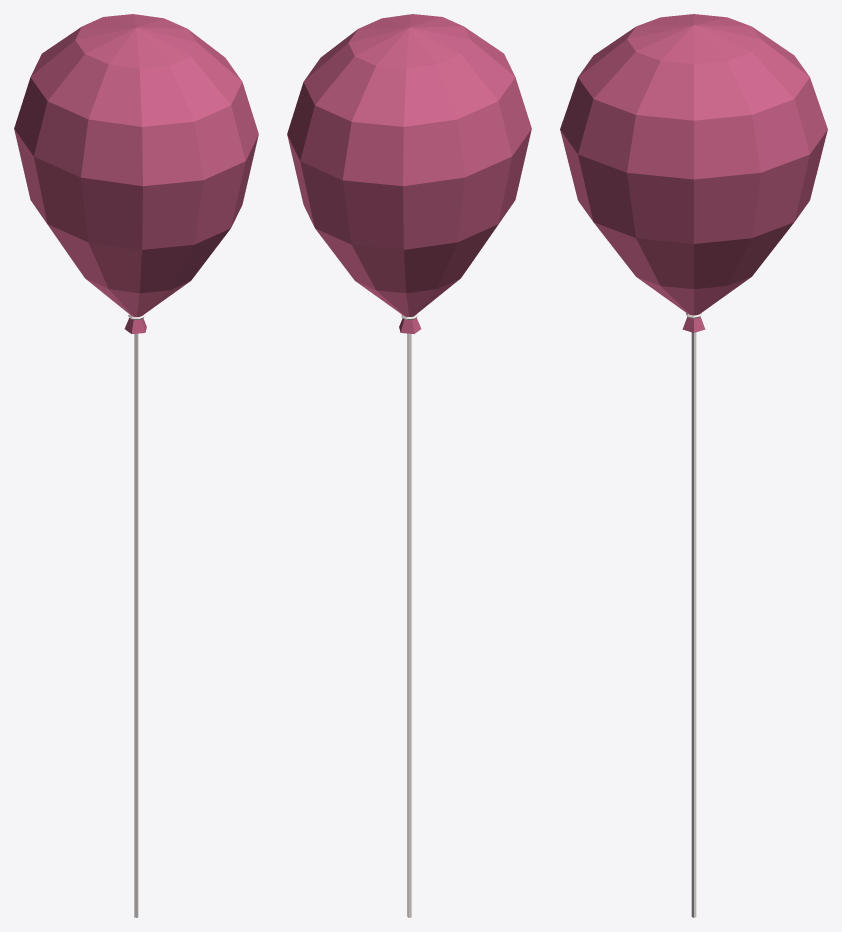
Rendered from stm_prop_balloon.fbx.
The picture shows the model from 3 angles, left to right: view 1: azimuth 30°, elevation 25°; view 2: azimuth 150°, elevation 25°; view 3: azimuth 270°, elevation 25°; orthographic projection.
Visible parts, largest first — view 1: balloon, string; view 2: balloon, string; view 3: balloon, string.
Part boxes in pixels (<box>): balloon: <box>14,14,258,316</box>; string: <box>134,333,138,917</box>; balloon: <box>287,14,531,316</box>; string: <box>407,333,411,917</box>; balloon: <box>560,14,827,315</box>; string: <box>691,332,696,917</box>.
Size of the model in its own units: 178 by 734 by 200.
